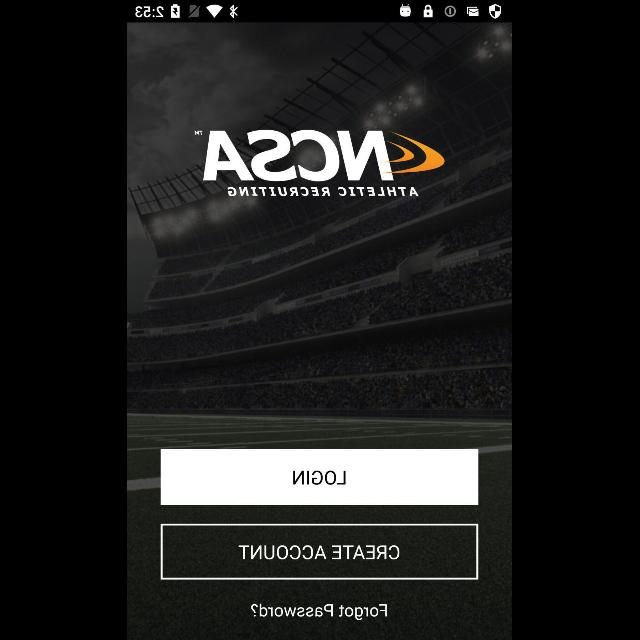backgroundimage: (128, 22, 512, 640)
image: (194, 130, 446, 198)
text: (252, 604, 388, 620)
textbutton: (161, 524, 479, 580), (161, 449, 479, 505)
uppertaskbar: (128, 1, 512, 23)
